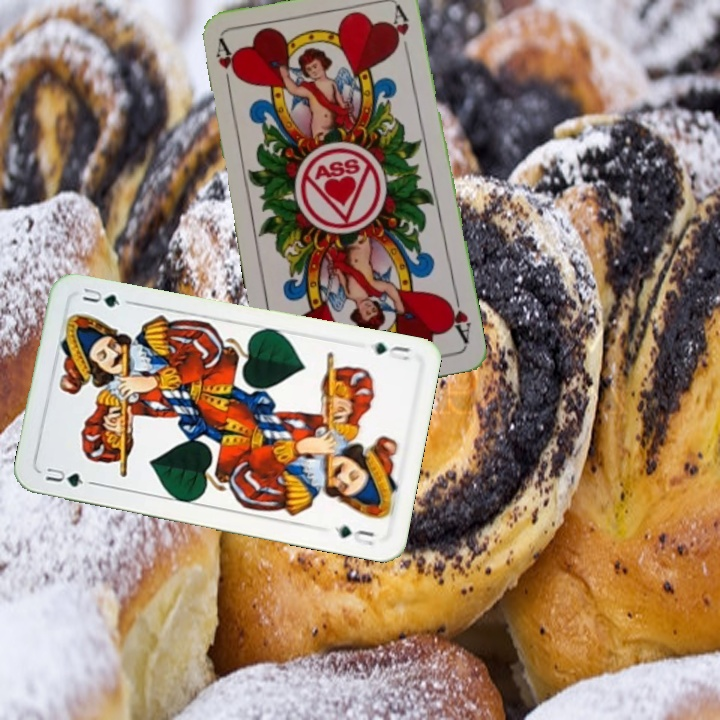GU: (41, 463, 96, 490), (371, 338, 413, 363)
HA: (212, 36, 243, 95), (442, 290, 474, 346)
